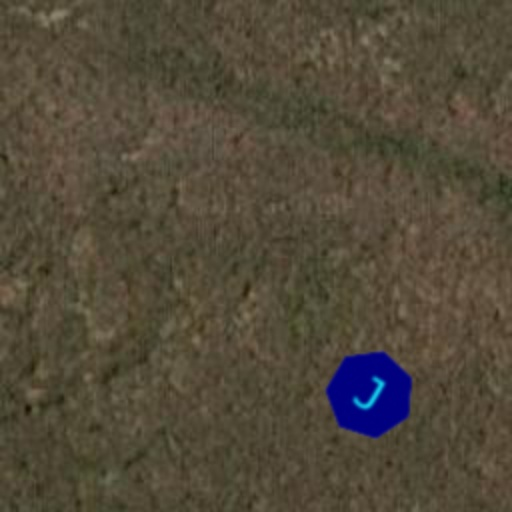heptagon: (306, 330, 434, 458)
